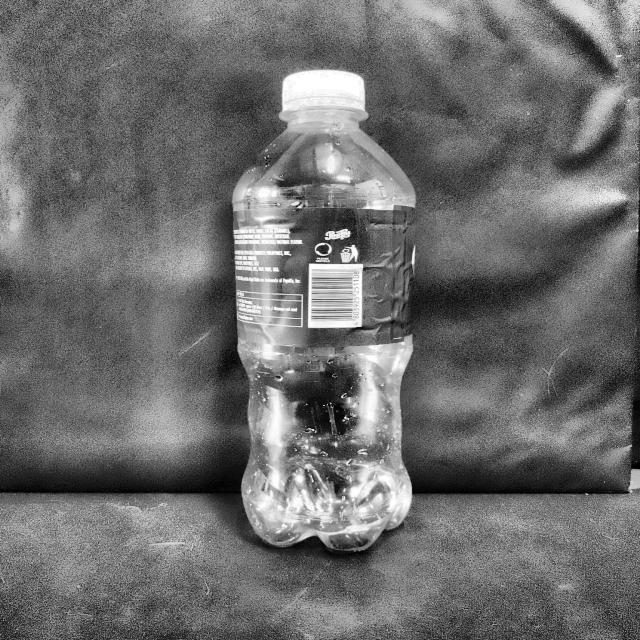Plastic-Bottle: (228, 68, 422, 560)
